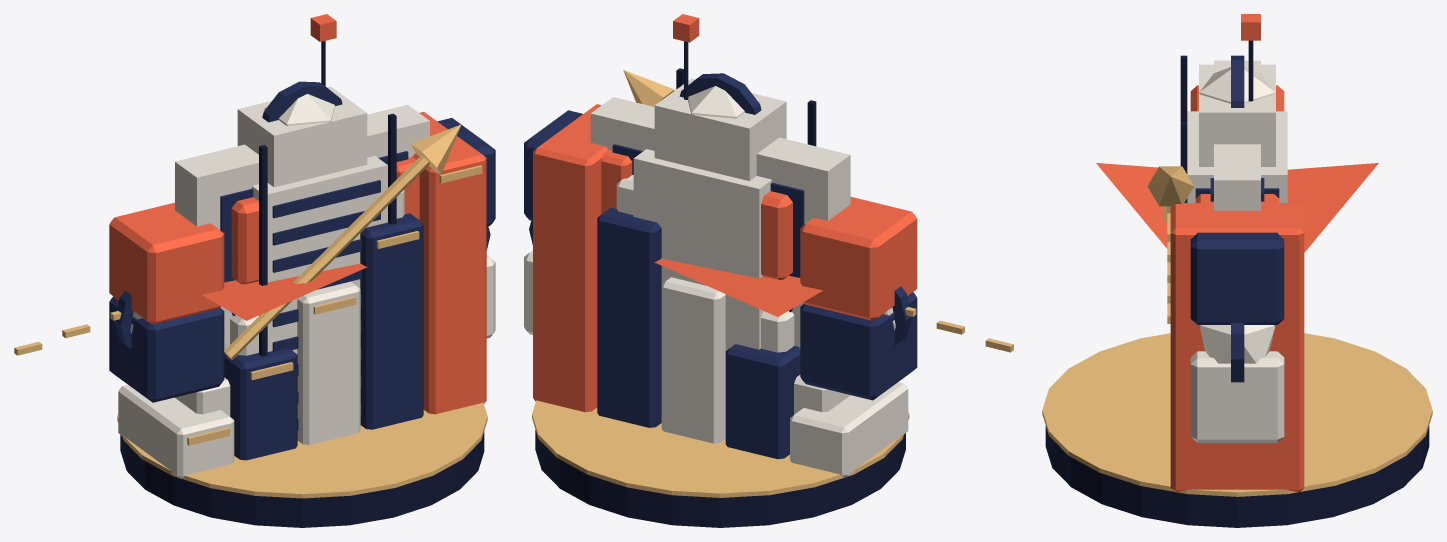
File: pg-props-v1.glb
3 views of the same model, side by side, from view 1: azimuth 30°, elevation 25°; view 2: azimuth 150°, elevation 25°; view 3: azimuth 270°, elevation 25° (orthographic). The views are drawn at different scales.
Parts seen in each view (by area): view 1: prop_process_p_navy, prop_process_p_coral, prop_process_p_ivory, prop_about_p_gold, prop_about_p_ivory, prop_about_p_deep, prop_services_p_coral, prop_services_p_navy, prop_why_p_ivory, prop_about_p_navy, prop_cases_p_gold, prop_contact_p_coral (+9 smaller); view 2: prop_about_p_ivory, prop_process_p_navy, prop_process_p_coral, prop_process_p_ivory, prop_about_p_gold, prop_services_p_coral, prop_about_p_deep, prop_services_p_navy, prop_why_p_ivory, prop_contact_p_coral, prop_services_p_ivory, prop_ecosystem_p_navy (+7 smaller); view 3: prop_about_p_gold, prop_process_p_coral, prop_about_p_deep, prop_services_p_navy, prop_services_p_ivory, prop_about_p_ivory, prop_contact_p_coral, prop_ecosystem_p_ivory, prop_why_p_ivory, prop_ecosystem_p_navy, prop_cases_p_gold, prop_about_p_coral.
Part boxes in pixels (x1=…): prop_process_p_navy: x1=224, y1=213, x2=423, y2=460; prop_process_p_coral: x1=412, y1=112, x2=486, y2=414; prop_process_p_ivory: x1=118, y1=281, x2=360, y2=478; prop_about_p_gold: x1=117, y1=402, x2=487, y2=498; prop_about_p_ivory: x1=237, y1=86, x2=387, y2=353; prop_about_p_deep: x1=120, y1=41, x2=484, y2=527; prop_services_p_coral: x1=109, y1=197, x2=258, y2=324; prop_services_p_navy: x1=109, y1=118, x2=495, y2=402; prop_why_p_ivory: x1=175, y1=104, x2=429, y2=349; prop_about_p_navy: x1=272, y1=180, x2=380, y2=430; prop_cases_p_gold: x1=224, y1=124, x2=461, y2=359; prop_contact_p_coral: x1=201, y1=263, x2=367, y2=320; prop_about_p_ivory: x1=633, y1=78, x2=786, y2=350; prop_process_p_navy: x1=597, y1=207, x2=800, y2=459; prop_process_p_coral: x1=533, y1=104, x2=608, y2=412; prop_process_p_ivory: x1=661, y1=277, x2=908, y2=478; prop_about_p_gold: x1=532, y1=400, x2=909, y2=497; prop_services_p_coral: x1=761, y1=191, x2=917, y2=320; prop_about_p_deep: x1=535, y1=41, x2=905, y2=527; prop_services_p_navy: x1=524, y1=110, x2=917, y2=400; prop_why_p_ivory: x1=590, y1=97, x2=850, y2=348; prop_contact_p_coral: x1=654, y1=258, x2=823, y2=316; prop_services_p_ivory: x1=524, y1=175, x2=794, y2=352; prop_ecosystem_p_navy: x1=529, y1=73, x2=911, y2=345; prop_about_p_gold: x1=1042, y1=333, x2=1432, y2=496; prop_process_p_coral: x1=1170, y1=203, x2=1304, y2=492; prop_about_p_deep: x1=1045, y1=40, x2=1429, y2=527; prop_services_p_navy: x1=1190, y1=232, x2=1284, y2=324; prop_services_p_ivory: x1=1190, y1=351, x2=1284, y2=442; prop_about_p_ivory: x1=1187, y1=64, x2=1287, y2=202; prop_contact_p_coral: x1=1096, y1=163, x2=1378, y2=252; prop_ecosystem_p_ivory: x1=1199, y1=67, x2=1275, y2=363; prop_why_p_ivory: x1=1214, y1=60, x2=1260, y2=210; prop_ecosystem_p_navy: x1=1231, y1=55, x2=1244, y2=382; prop_cases_p_gold: x1=1147, y1=166, x2=1193, y2=223; prop_about_p_coral: x1=1241, y1=14, x2=1260, y2=40.
Bounding box in the file's own units: 3.44 × 3.13 × 2.34.
